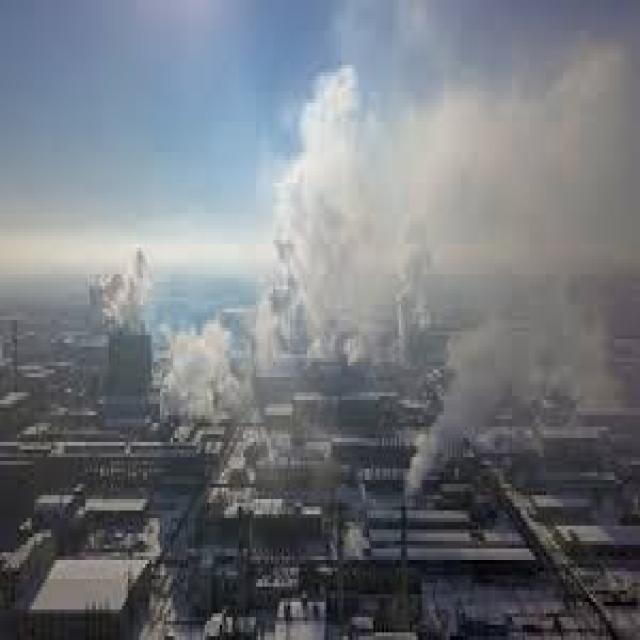Smoke: (409, 312, 603, 493), (274, 69, 379, 358), (160, 320, 230, 420), (392, 219, 434, 364), (102, 248, 152, 328)
